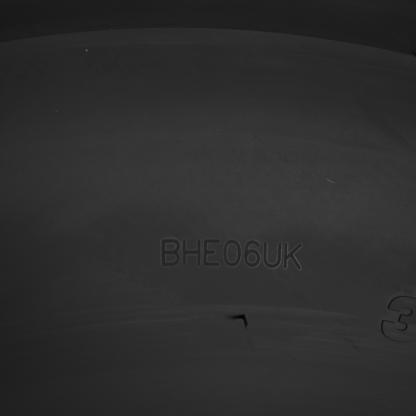ocr: (159, 236, 307, 273)
